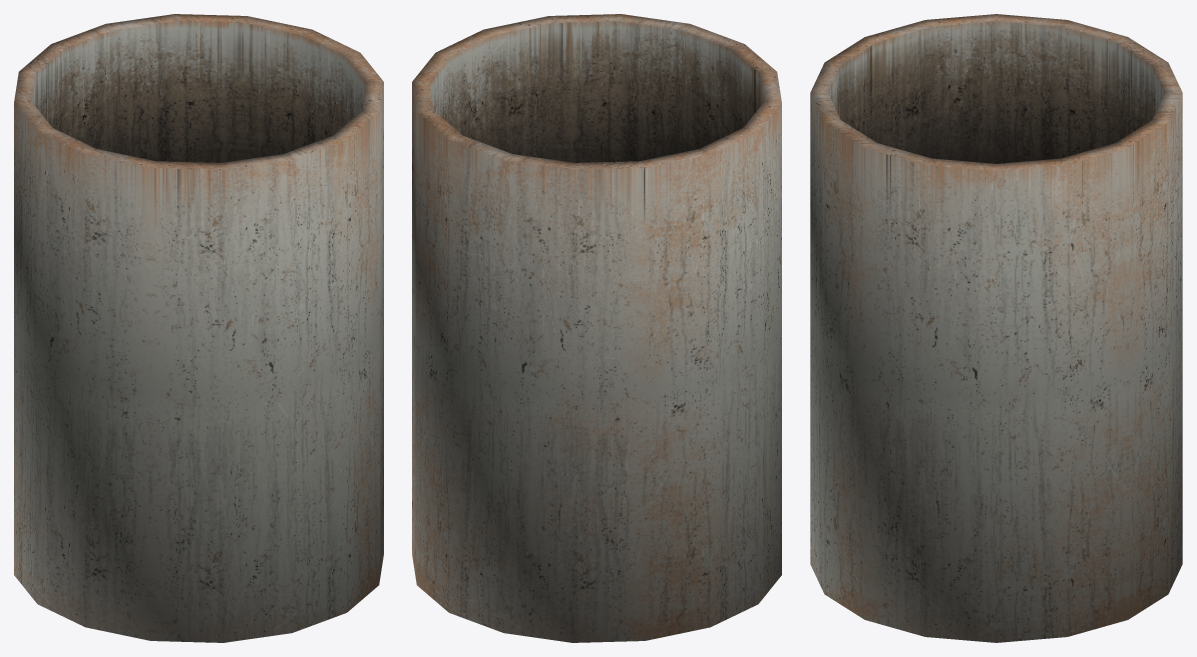
File: brazier.fbx
The picture shows the model from 3 angles, left to right: view 1: azimuth 30°, elevation 25°; view 2: azimuth 150°, elevation 25°; view 3: azimuth 270°, elevation 25°; orthographic projection.
Parts seen in each view (by area): view 1: Cylinder012; view 2: Cylinder012; view 3: Cylinder012.
Boxes of the visible parts, x1,y1,x2,y2 form: Cylinder012: (14,14,383,642); Cylinder012: (412,14,781,642); Cylinder012: (810,14,1182,642).
Size of the model in its own units: 21.24 by 29.69 by 21.24.
